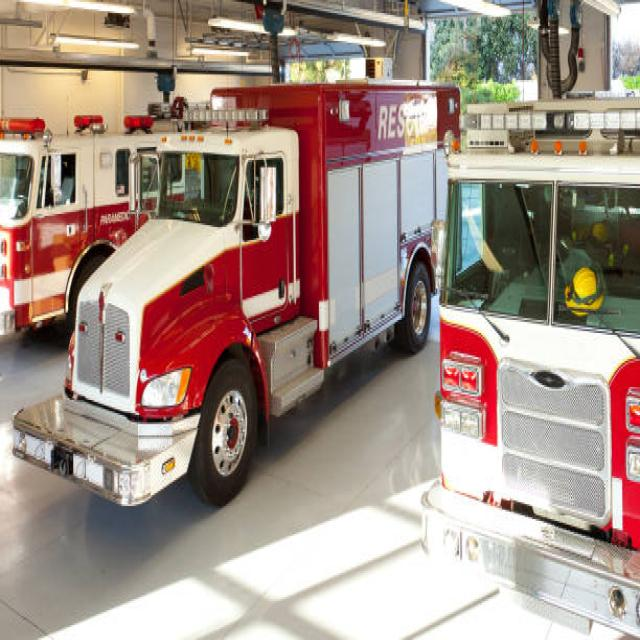emergency: (14, 82, 459, 506), (422, 98, 640, 635), (0, 116, 159, 335)
